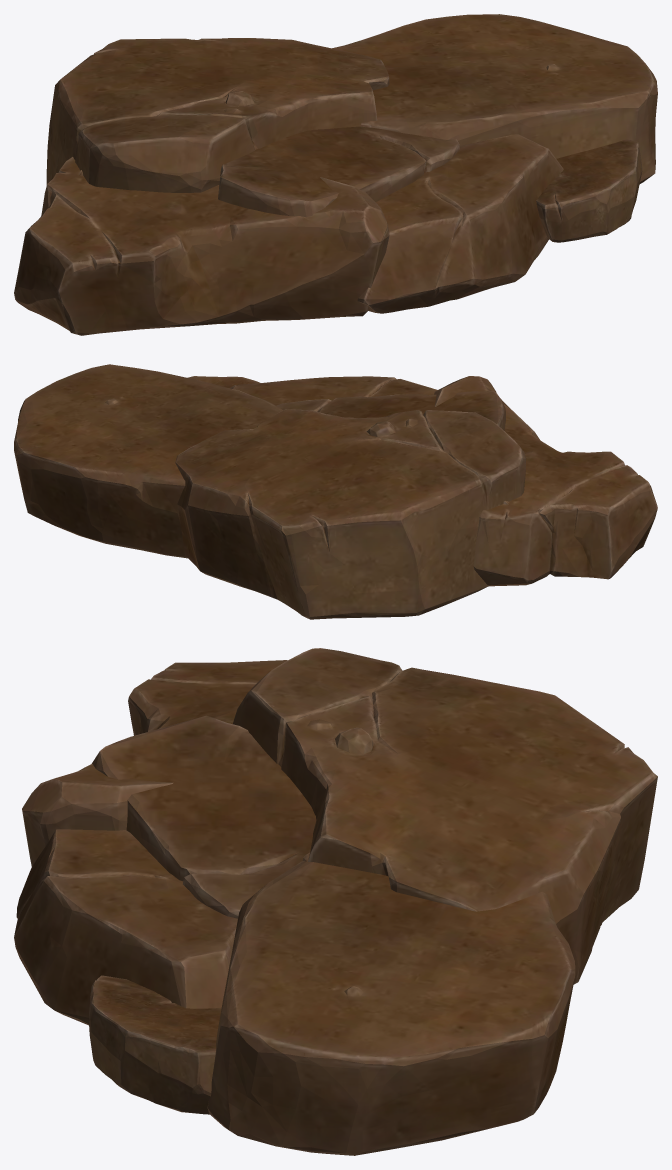
3 renders of one model, top to bottom at view 1: azimuth 30°, elevation 25°; view 2: azimuth 150°, elevation 25°; view 3: azimuth 270°, elevation 25°, orthographic. The views are drawn at different scales.
Parts seen in each view (by area): view 1: SM_Mining_Node_Medium_Clay_01_LOD0; view 2: SM_Mining_Node_Medium_Clay_01_LOD0; view 3: SM_Mining_Node_Medium_Clay_01_LOD0.
Part boxes in pixels (x1,y1,x2,y2): SM_Mining_Node_Medium_Clay_01_LOD0: [14, 14, 657, 335]; SM_Mining_Node_Medium_Clay_01_LOD0: [14, 364, 657, 619]; SM_Mining_Node_Medium_Clay_01_LOD0: [14, 648, 657, 1155].
Bounding box in the file's own units: 4.32 × 0.9175 × 2.9.
Materials: 1 (1 with a texture image).
